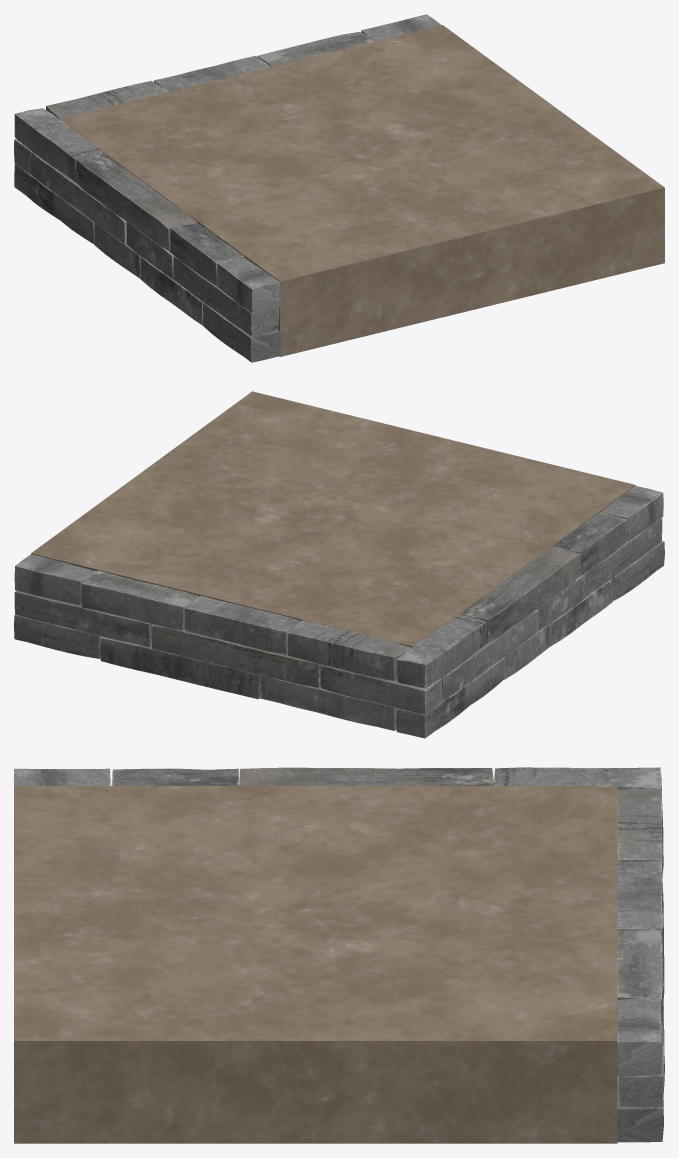
The model's file is SM_Gidan01c.fbx.
3 renders of one model, top to bottom at view 1: azimuth 30°, elevation 25°; view 2: azimuth 150°, elevation 25°; view 3: azimuth 270°, elevation 25°, orthographic. The views are drawn at different scales.
Visible parts, largest first — view 1: SM_Gidan01c; view 2: SM_Gidan01c; view 3: SM_Gidan01c.
Boxes of the visible parts, x1,y1,x2,y2 form: SM_Gidan01c: (14,14,664,362); SM_Gidan01c: (14,391,664,738); SM_Gidan01c: (14,767,664,1143).
Bounding box in the file's own units: 323 × 323 × 56.72.
2 materials, 2 textured.
